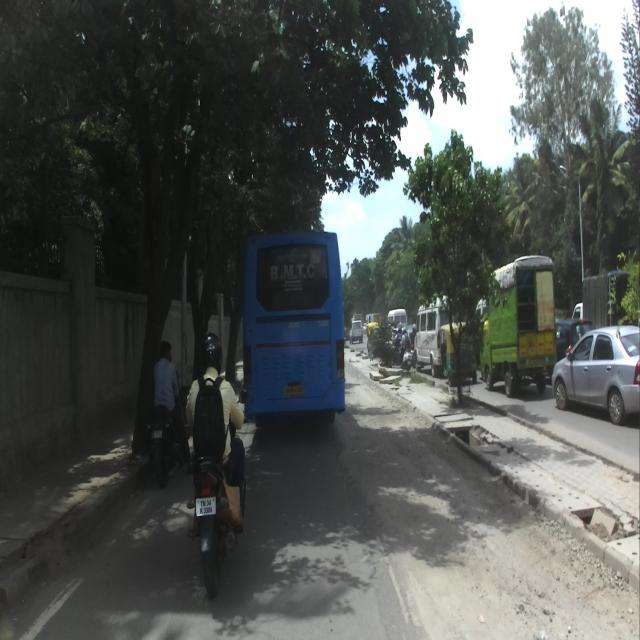bus: (241, 226, 349, 424)
car: (550, 323, 639, 424)
motorcycle: (184, 387, 251, 597)
